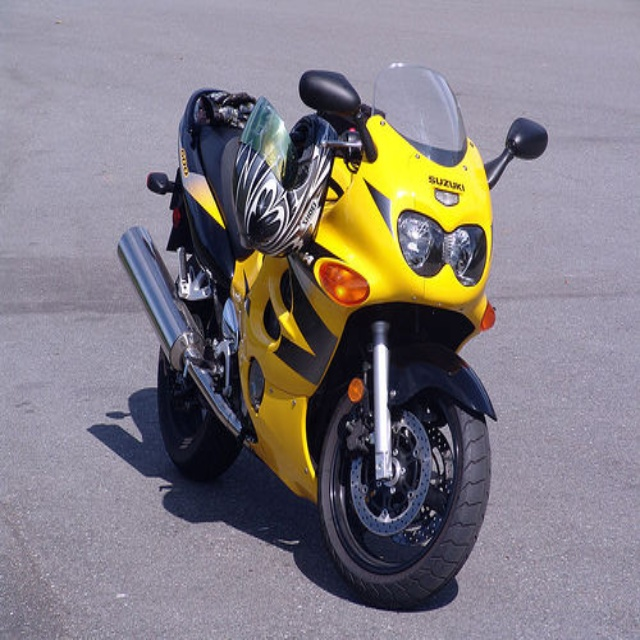Motorcycle: (116, 60, 549, 611)
